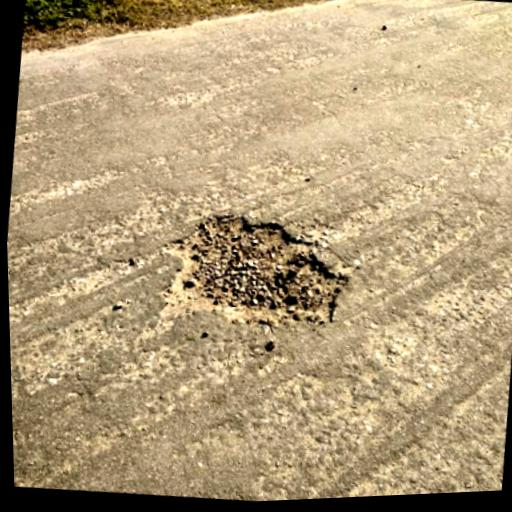pothole: (150, 199, 359, 339)
